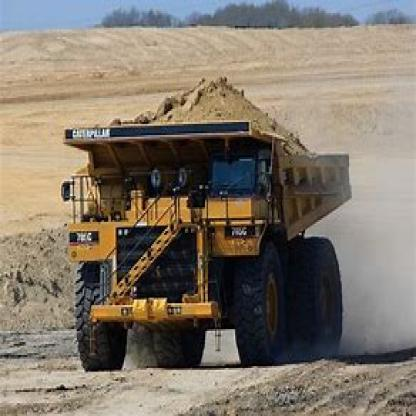dump_truck: (64, 67, 355, 372)
